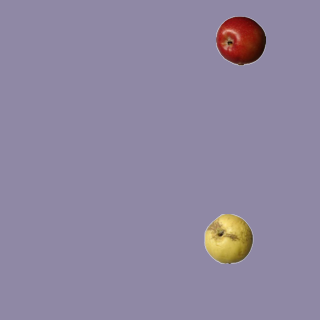Apple Braeburn: (215, 15, 265, 65)
Apple Golden 1: (203, 213, 253, 263)
